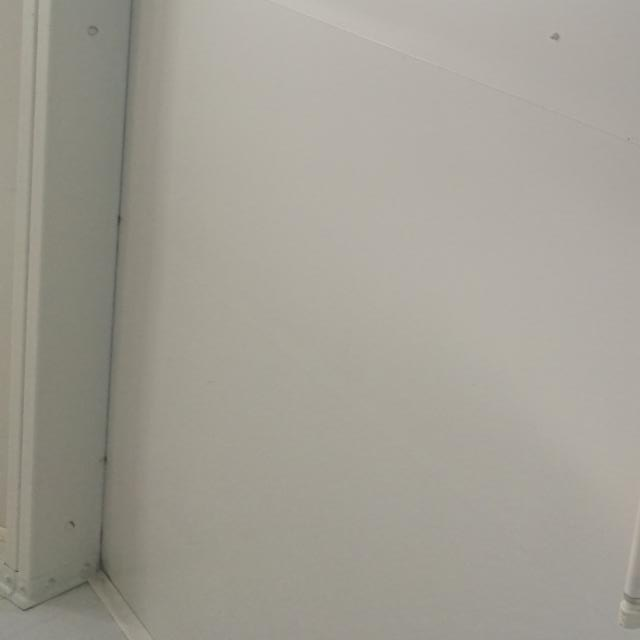fluorescent tube: (536, 0, 640, 640)
